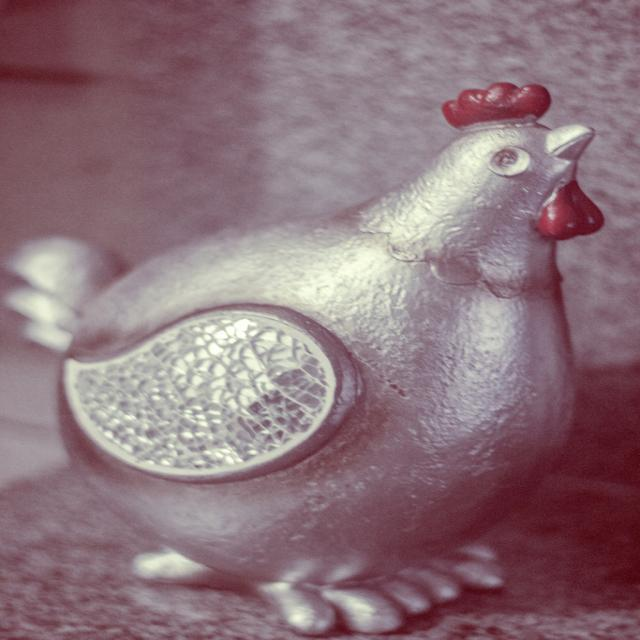Chicken: (54, 65, 628, 606)
